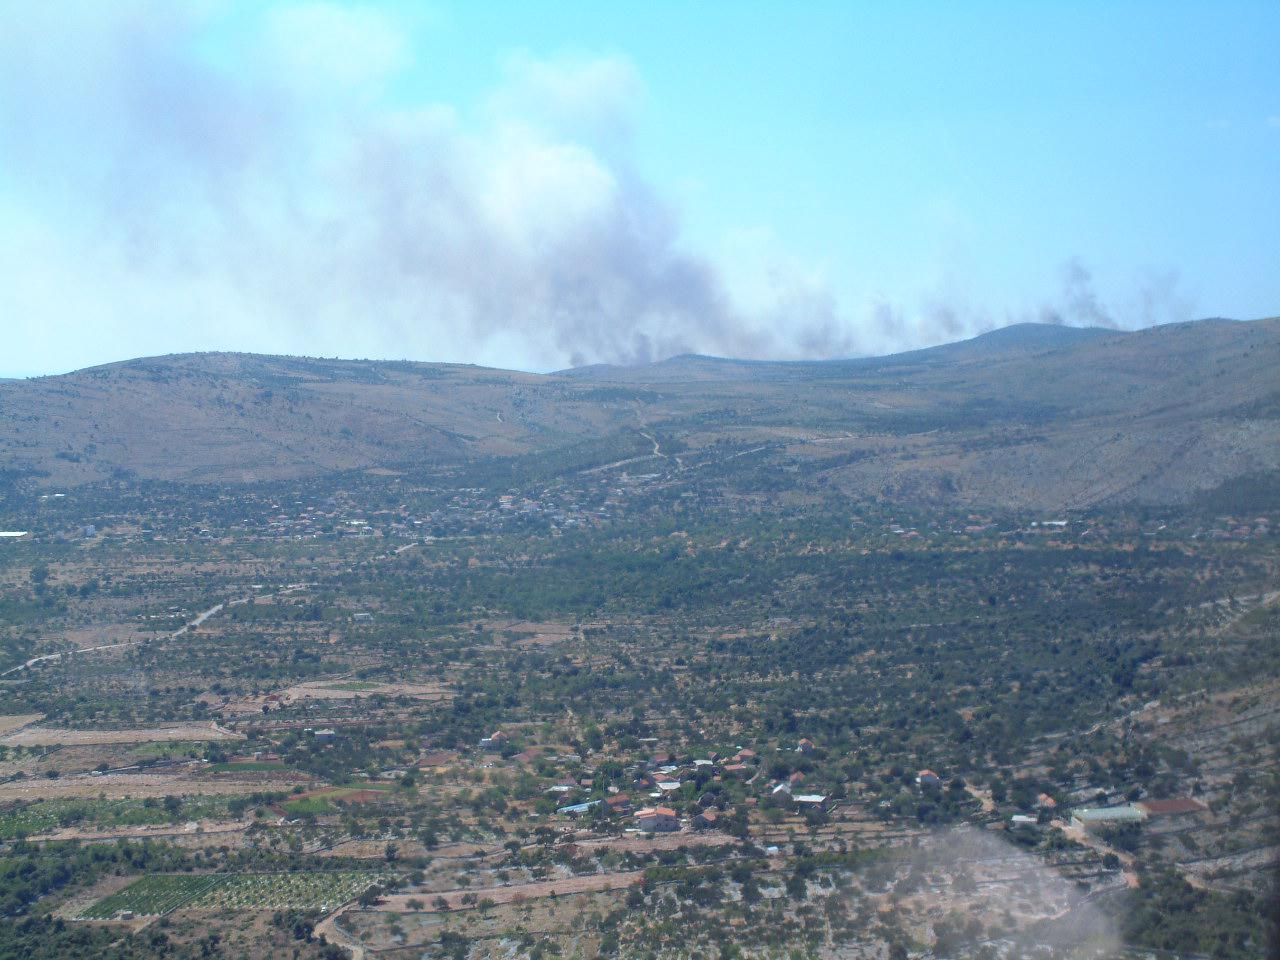Smoke: (287, 50, 782, 362)
